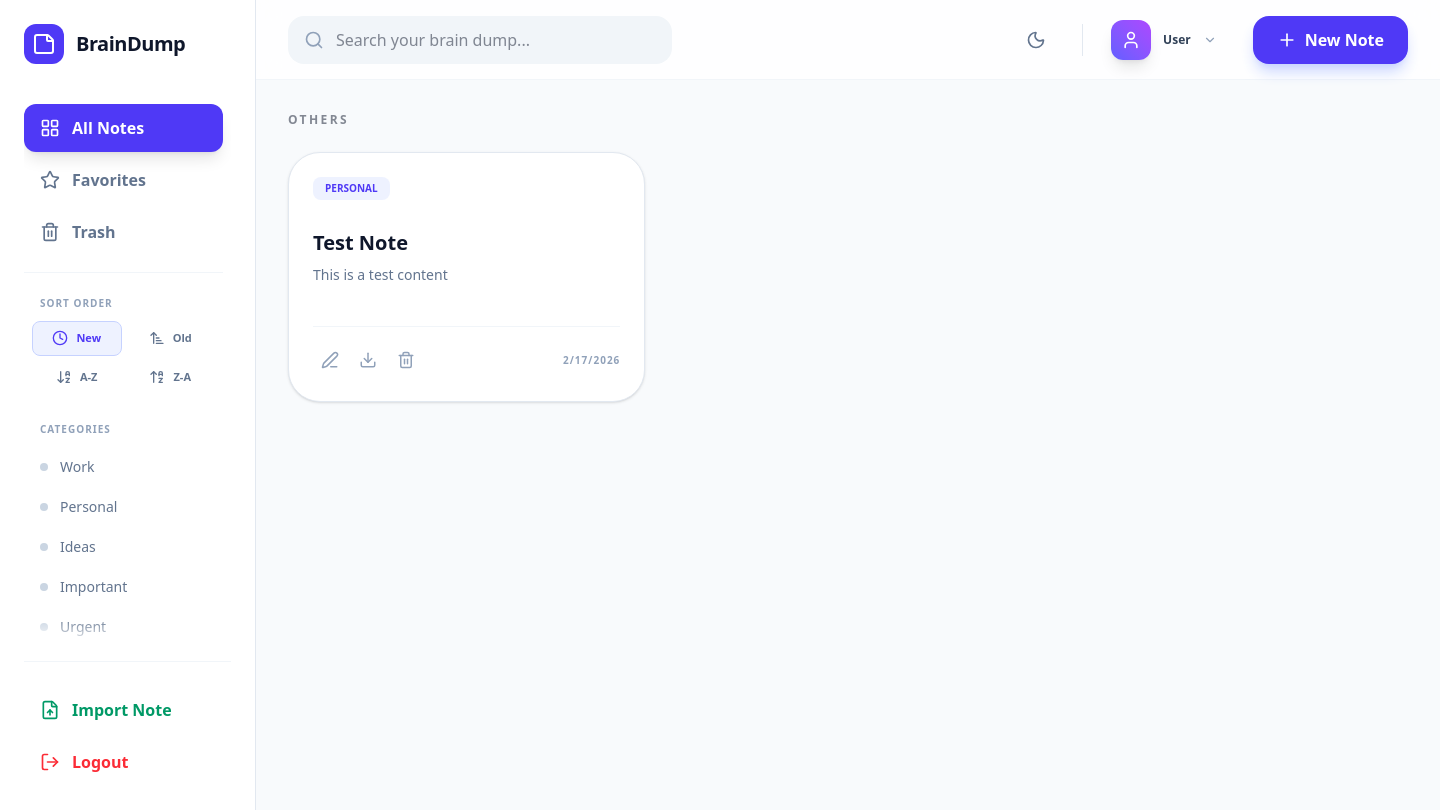
it: Dashboard Component › Note Operations › opens edit modal with existing note data
The image size is (1440, 810).
Step 1. Click the button with test id "edit-note-btn" → (330, 360), box [313,343,347,377]
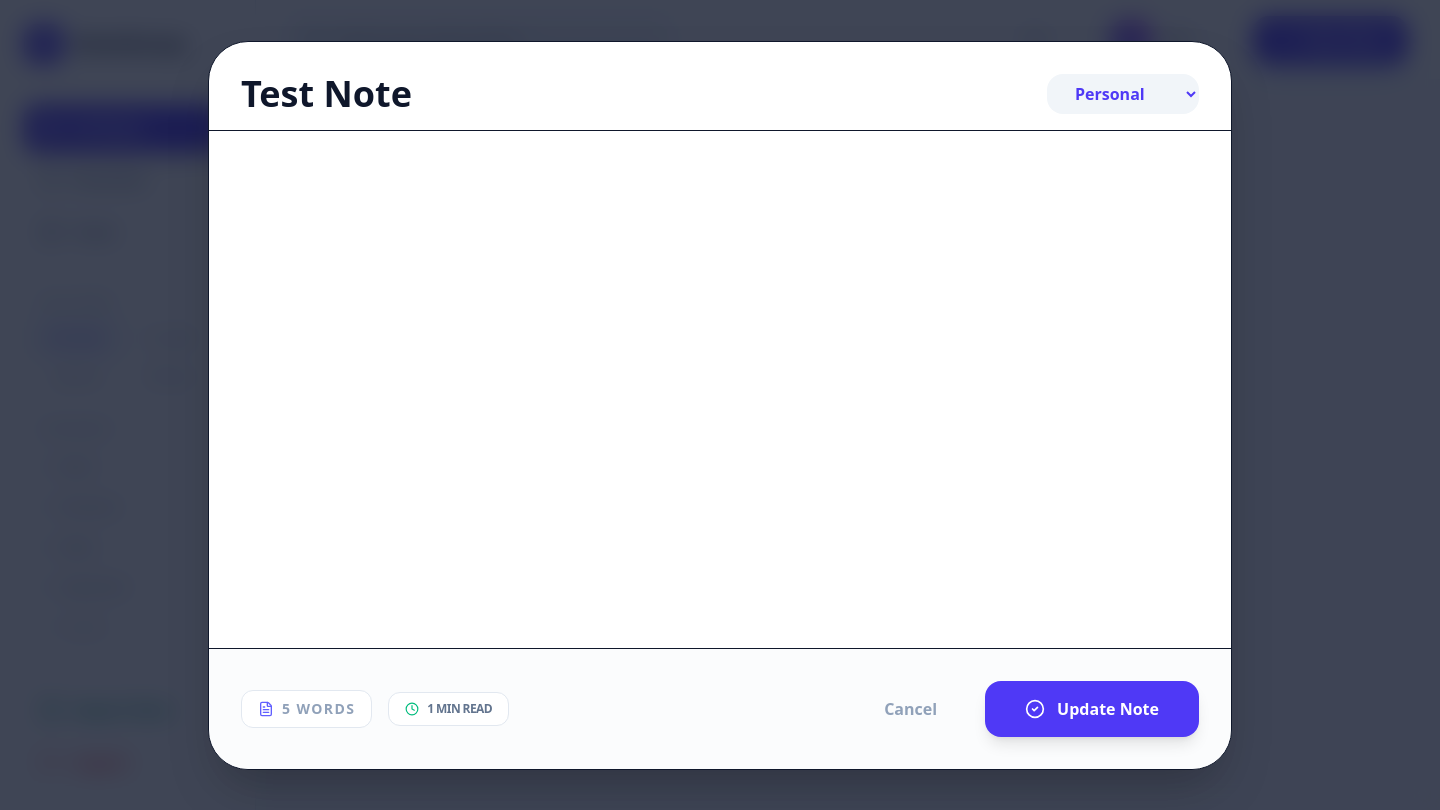
Result: the field with placeholder "Note Title..." holds "Test Note" at [241,74,1031,114]
